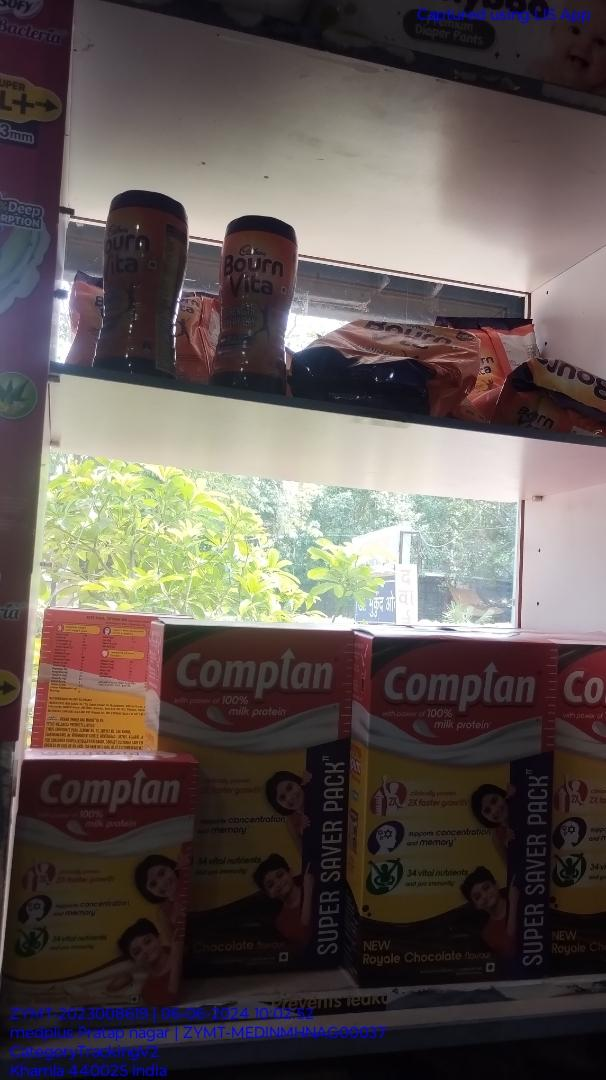COMPLAN_KESAR_BADAM_200_GMS_PACK: (16, 754, 190, 1021)
